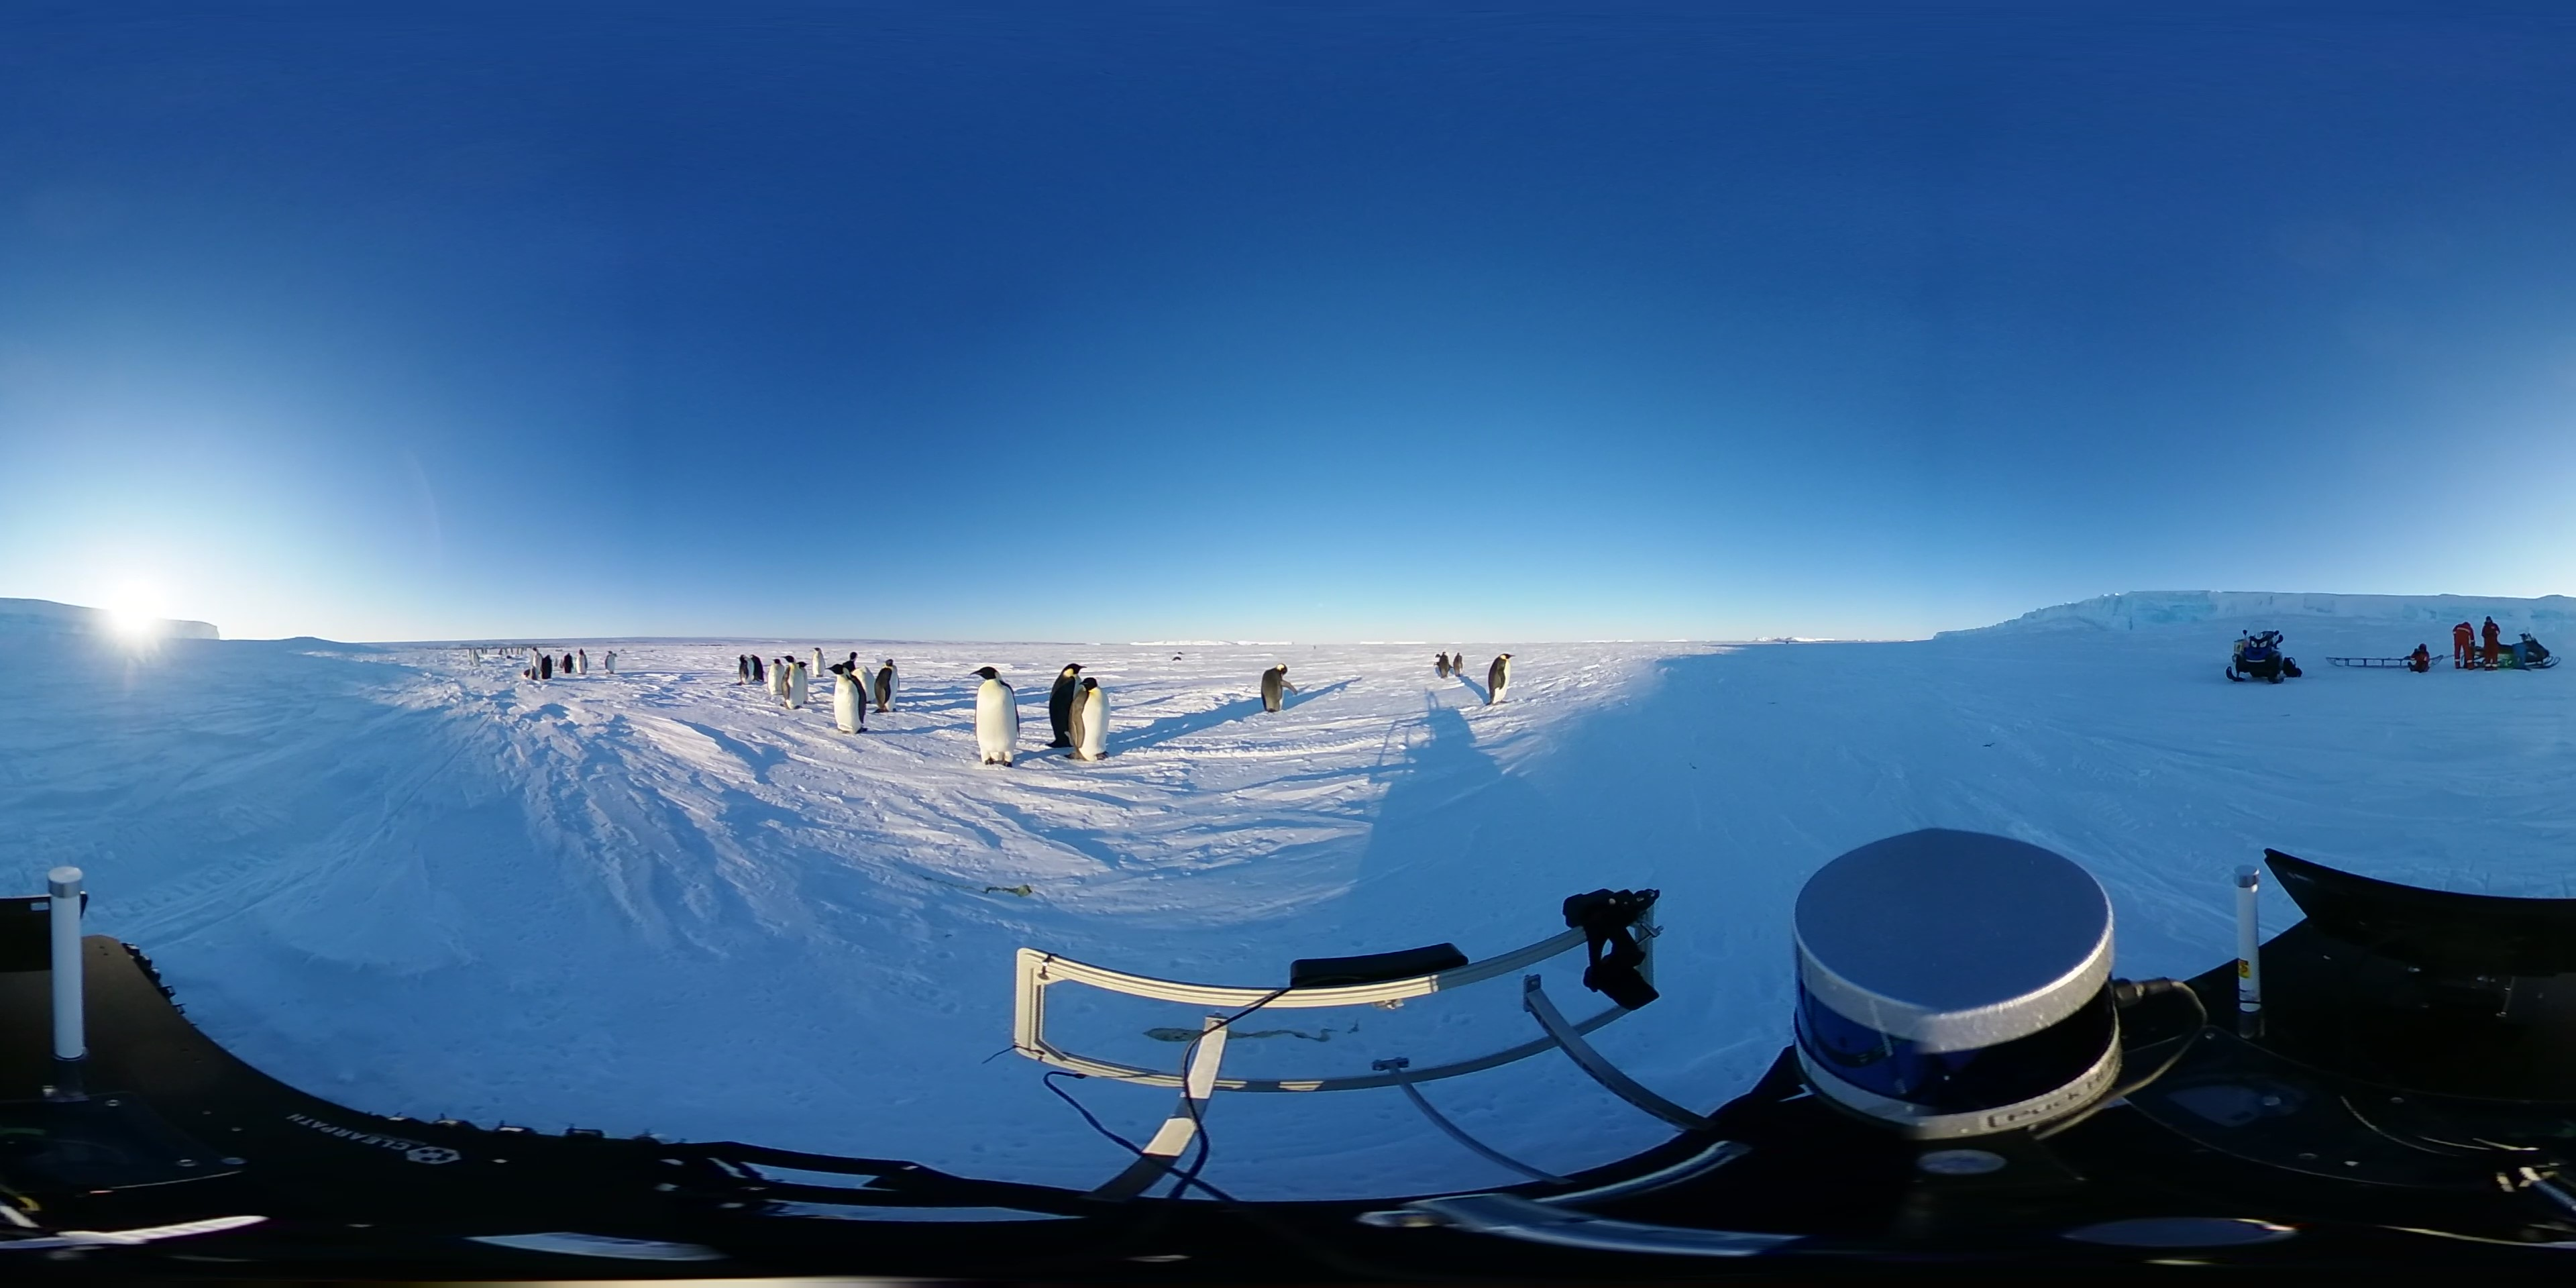adult_standing_penguin: (969, 664, 1025, 770), (1068, 677, 1119, 766), (1045, 660, 1091, 751), (826, 662, 874, 739), (1257, 660, 1303, 715), (872, 655, 904, 716), (780, 652, 807, 713), (1488, 649, 1513, 710), (764, 655, 784, 700), (808, 646, 828, 680), (573, 646, 591, 677), (1436, 651, 1452, 682), (1452, 651, 1467, 680)
researcher: (2451, 618, 2477, 672), (2481, 614, 2502, 674), (2405, 641, 2431, 675)
